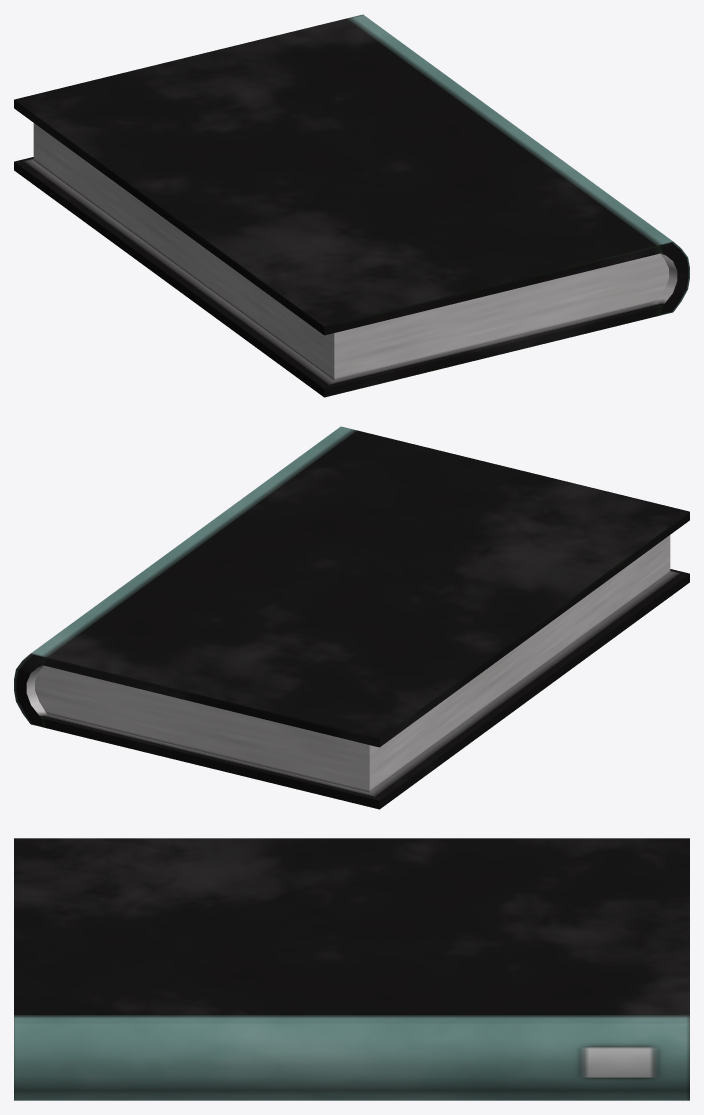
Rendered from SingleBookA.fbx.
3 renders of one model, top to bottom at view 1: azimuth 30°, elevation 25°; view 2: azimuth 150°, elevation 25°; view 3: azimuth 270°, elevation 25°, orthographic. The views are drawn at different scales.
Parts seen in each view (by area): view 1: SingleBookA; view 2: SingleBookA; view 3: SingleBookA.
Boxes of the visible parts, box(x1,y1,x2,y2) form: SingleBookA: box(14, 14, 689, 397); SingleBookA: box(14, 426, 689, 809); SingleBookA: box(14, 838, 689, 1100).
Bounding box in the file's own units: 18.64 × 3.45 × 27.4.
